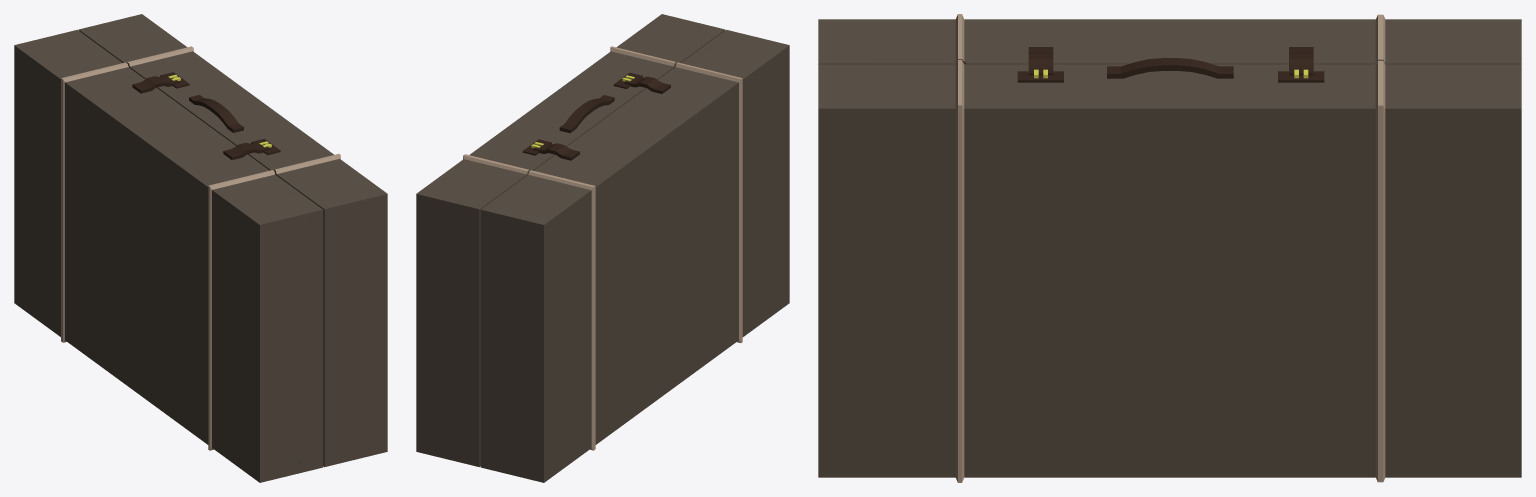
File: chemodan.fbx
3 renders of one model, left to right at view 1: azimuth 30°, elevation 25°; view 2: azimuth 150°, elevation 25°; view 3: azimuth 270°, elevation 25°, orthographic. The views are drawn at different scales.
Parts seen in each view (by area): view 1: chemodan; view 2: chemodan; view 3: chemodan.
Boxes of the visible parts, x1,y1,x2,y2 form: chemodan: [14, 14, 387, 482]; chemodan: [416, 14, 789, 482]; chemodan: [818, 14, 1521, 482].
Bounding box in the file's own units: 136 × 269 × 443.
